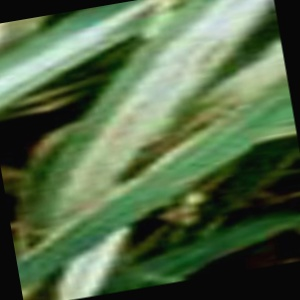Leaf_Blast: (61, 0, 285, 160)
